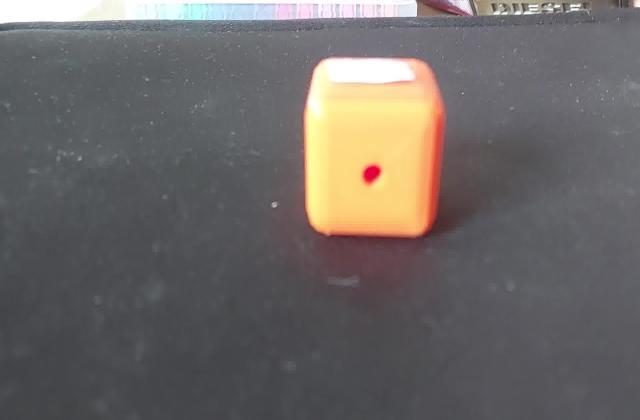cube: (298, 53, 446, 243)
white: (324, 55, 419, 89)
